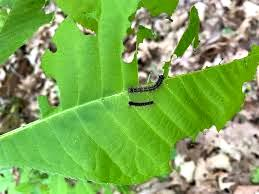Caterpillar: (129, 73, 167, 94), (124, 96, 157, 107)
